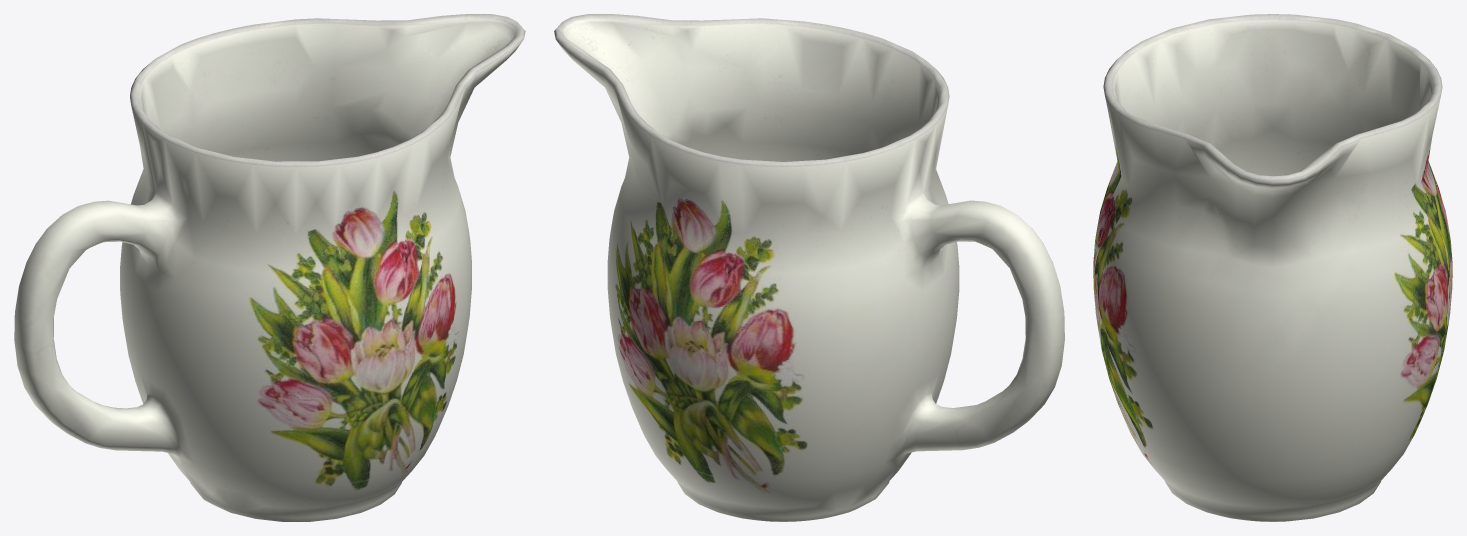
The model's file is jug_01.glb.
The picture shows the model from 3 angles, left to right: view 1: azimuth 30°, elevation 25°; view 2: azimuth 150°, elevation 25°; view 3: azimuth 270°, elevation 25°; orthographic projection. The views are drawn at different scales.
Visible parts, largest first — view 1: jug_01; view 2: jug_01; view 3: jug_01.
Part boxes in pixels (x1=…): jug_01: x1=14, y1=14, x2=525, y2=521; jug_01: x1=554, y1=14, x2=1064, y2=521; jug_01: x1=1093, y1=14, x2=1452, y2=521.
Bounding box in the file's own units: 0.275 × 0.2113 × 0.1675.
1 material, 1 textured.
